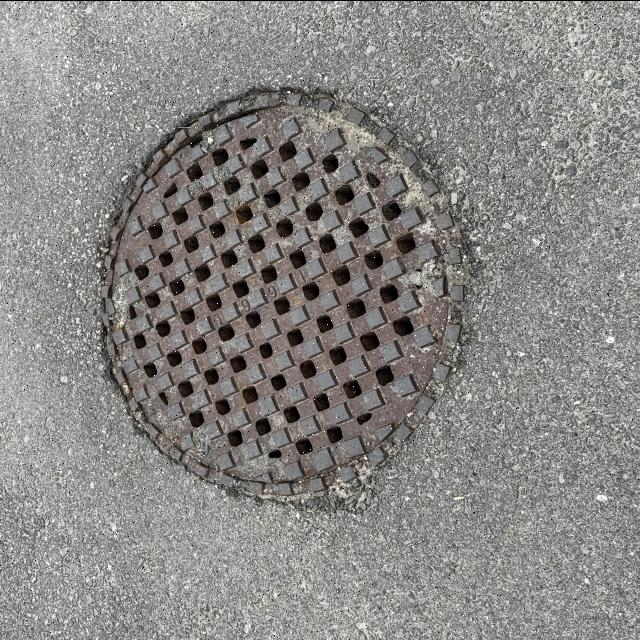Manhole: (92, 84, 464, 495)
